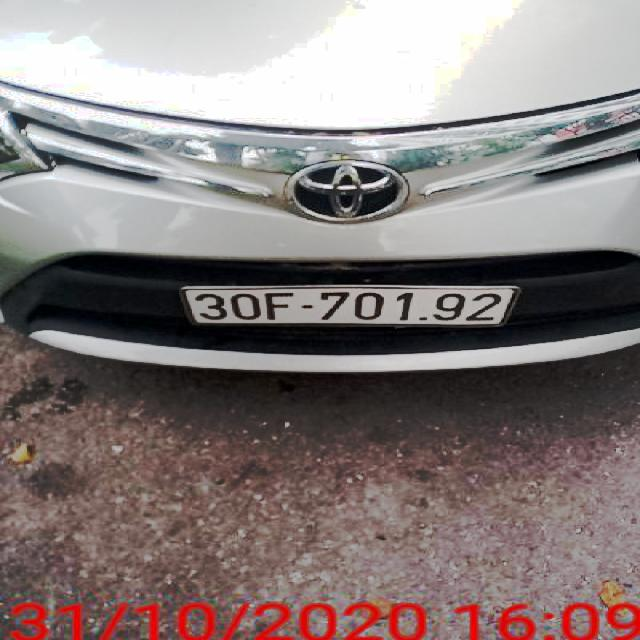license_plate: (183, 283, 520, 327)
